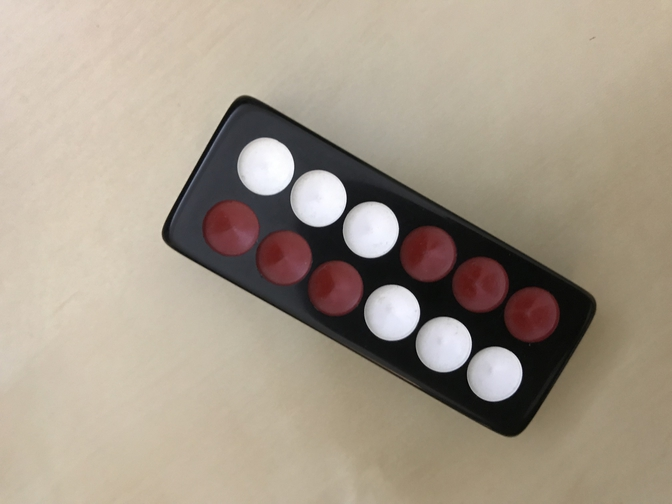heaven: (162, 94, 598, 439)
